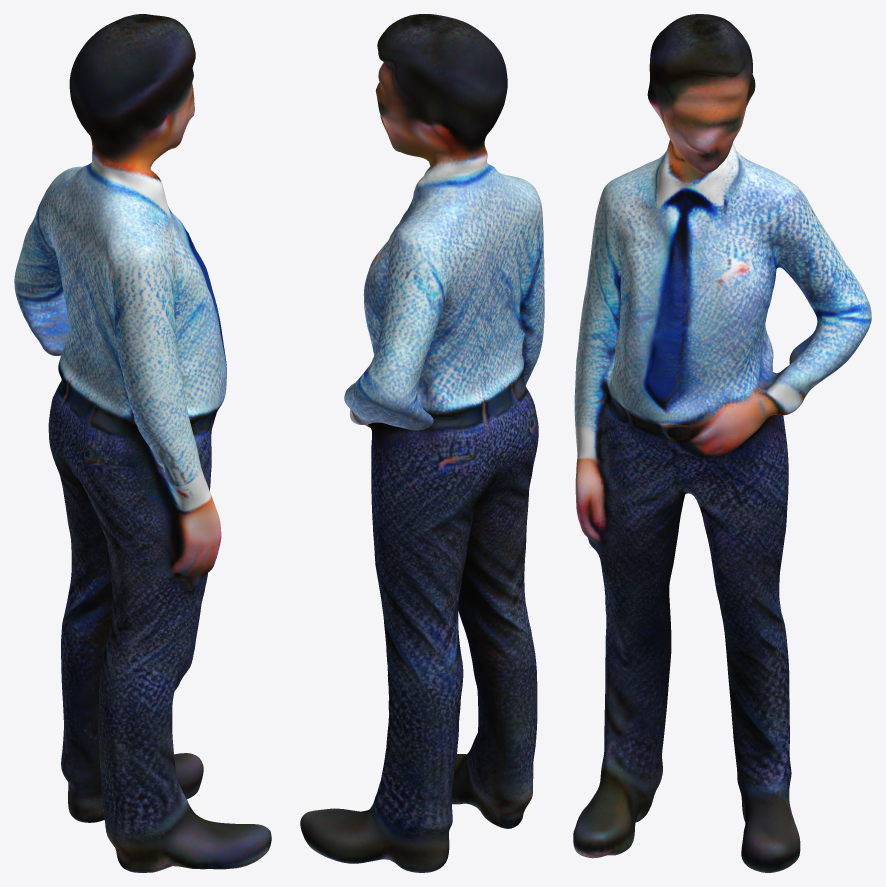
Rendered from seita.glb.
3 views of the same model, side by side, from view 1: azimuth 30°, elevation 25°; view 2: azimuth 150°, elevation 25°; view 3: azimuth 270°, elevation 25° (orthographic).
Parts seen in each view (by area): view 1: high_poly; view 2: high_poly; view 3: high_poly.
Part boxes in pixels (box(x1,y1,x2,y2)): high_poly: box(14, 14, 271, 872); high_poly: box(300, 14, 544, 872); high_poly: box(573, 14, 871, 872).
Size of the model in its own units: 0.2208 by 1 by 0.3321.
Materials: 1 (1 with a texture image).
